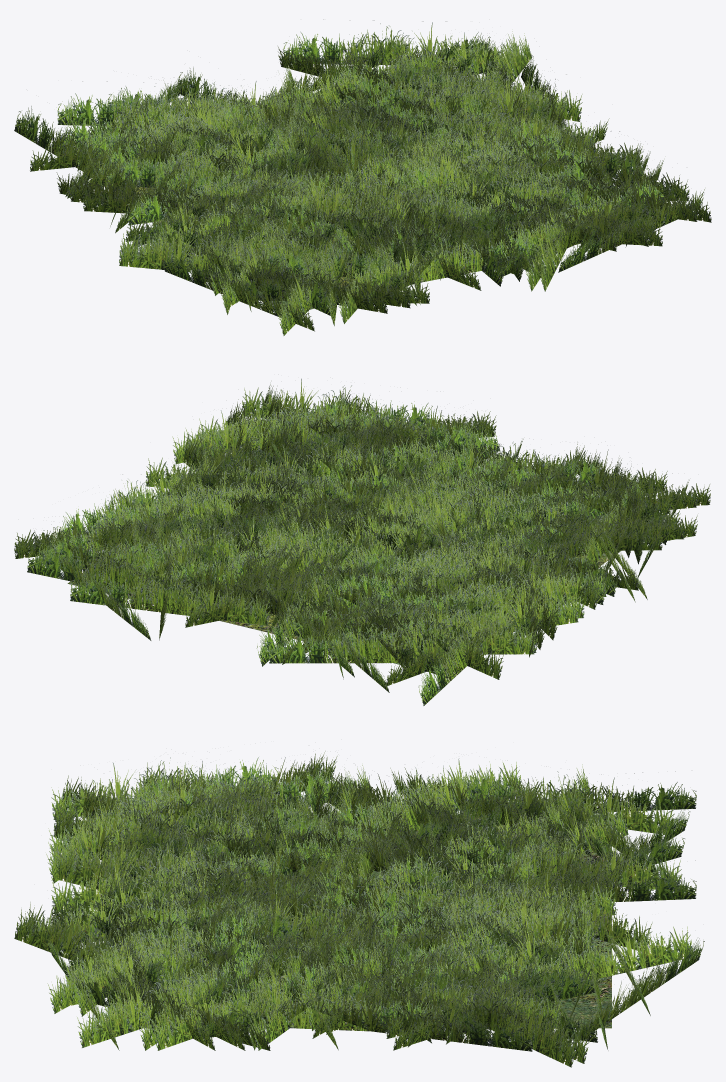
File: grass.glb
3 renders of one model, top to bottom at view 1: azimuth 30°, elevation 25°; view 2: azimuth 150°, elevation 25°; view 3: azimuth 270°, elevation 25°, orthographic. The views are drawn at different scales.
Bounding box in the file's own units: 10.02 × 0.8953 × 10.11.
3 materials, 2 textured.
